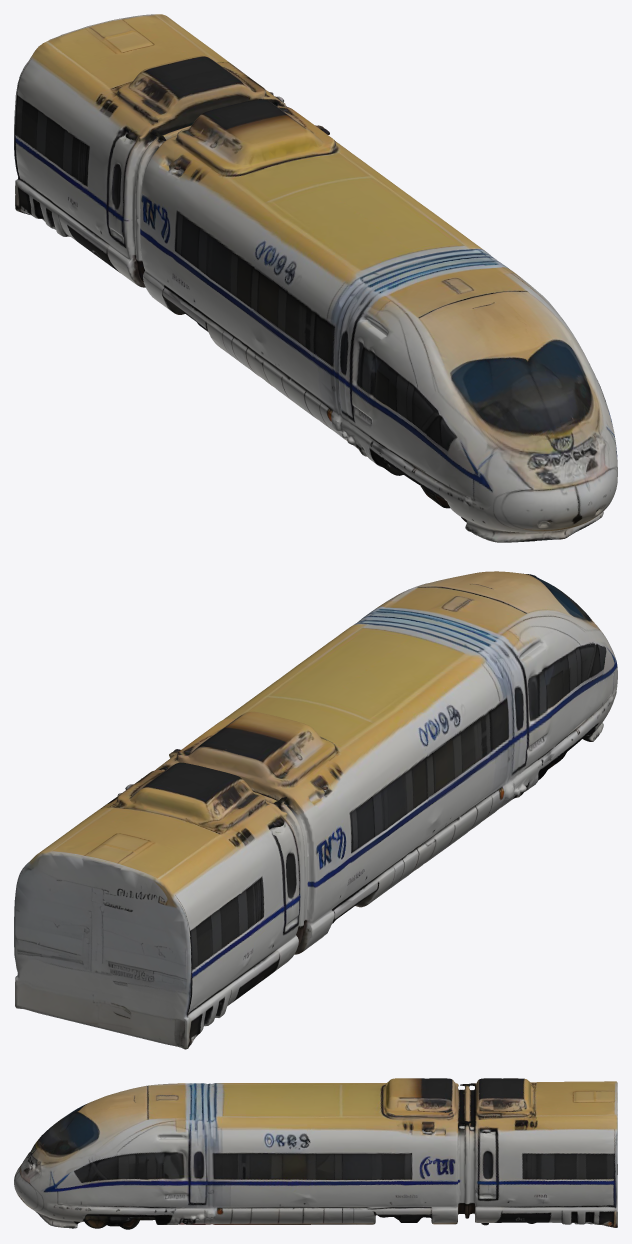
Rendered from CRH3C.glb.
3 views of the same model, one above another, from view 1: azimuth 30°, elevation 25°; view 2: azimuth 150°, elevation 25°; view 3: azimuth 270°, elevation 25° (orthographic). The views are drawn at different scales.
Visible parts, largest first — view 1: tripo_node_d95331ba-ae2a-4c9b-8f65-47b2c6f89398; view 2: tripo_node_d95331ba-ae2a-4c9b-8f65-47b2c6f89398; view 3: tripo_node_d95331ba-ae2a-4c9b-8f65-47b2c6f89398.
Boxes of the visible parts, x1,y1,x2,y2 form: tripo_node_d95331ba-ae2a-4c9b-8f65-47b2c6f89398: (14, 14, 617, 542); tripo_node_d95331ba-ae2a-4c9b-8f65-47b2c6f89398: (14, 571, 617, 1049); tripo_node_d95331ba-ae2a-4c9b-8f65-47b2c6f89398: (14, 1078, 617, 1229).
Size of the model in its own units: 0.2167 by 0.2355 by 1.
1 material, 1 textured.
